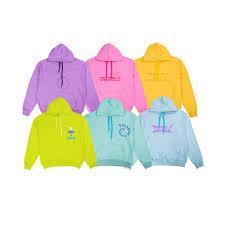sweater: (24, 99, 92, 170), (138, 94, 202, 167), (24, 42, 93, 109), (137, 42, 197, 111)
